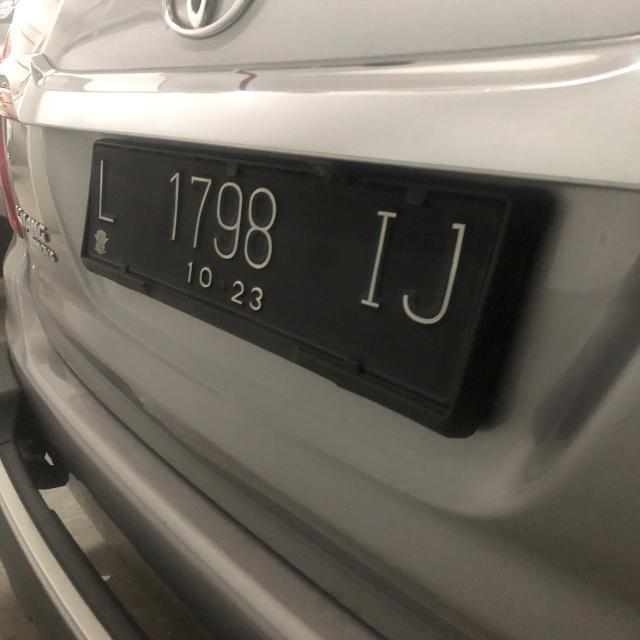1: (162, 170, 186, 243)
7: (186, 172, 212, 255)
8: (244, 185, 282, 270)
9: (211, 182, 244, 262)
I: (353, 211, 402, 315)
J: (399, 216, 474, 322)
L: (95, 156, 130, 230)
